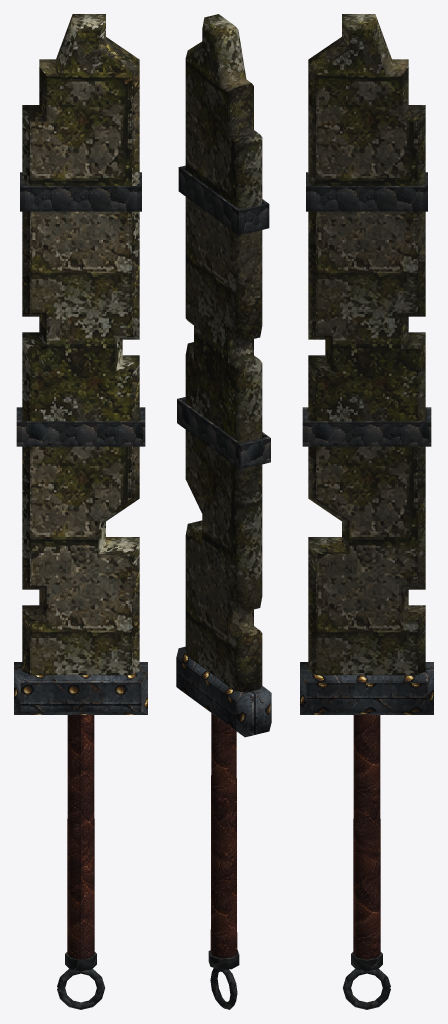
The model's file is tombstone.glb.
3 views of the same model, side by side, from view 1: azimuth 90°, elevation 25°; view 2: azimuth 210°, elevation 25°; view 3: azimuth 270°, elevation 25° (orthographic).
Parts seen in each view (by area): view 1: tombstone; view 2: tombstone; view 3: tombstone.
Boxes of the visible parts, box(x1,y1,x2,y2) form: tombstone: box(14, 14, 147, 1009); tombstone: box(176, 14, 271, 1009); tombstone: box(300, 14, 433, 1009).
Size of the model in its own units: 0.05 by 1.31 by 0.16.
Materials: 1 (1 with a texture image).
